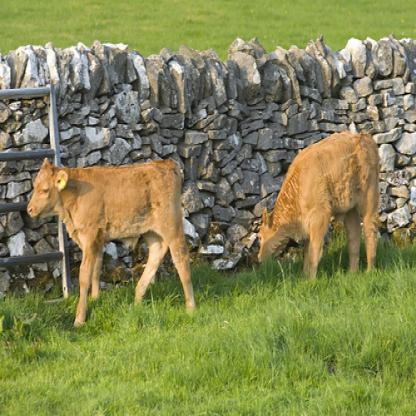cow: (27, 153, 199, 329), (254, 124, 388, 284)
